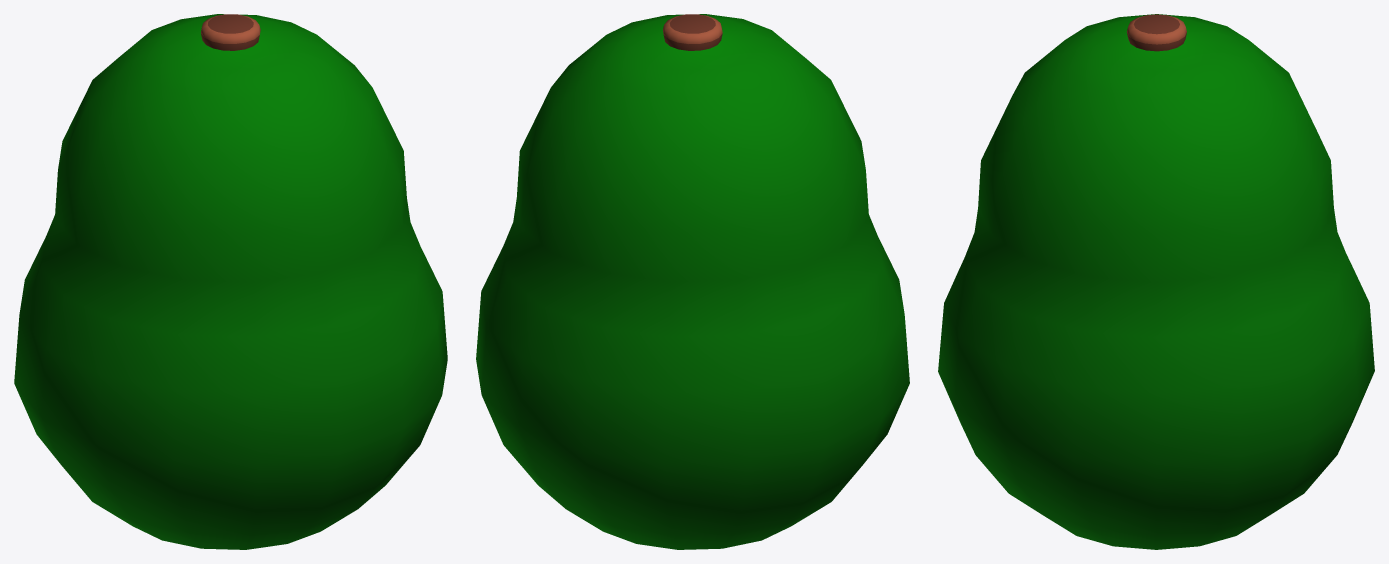
File: Avocado_V1_00.fbx
The picture shows the model from 3 angles, left to right: view 1: azimuth 30°, elevation 25°; view 2: azimuth 150°, elevation 25°; view 3: azimuth 270°, elevation 25°; orthographic projection.
Visible parts, largest first — view 1: Avocado_V1_00; view 2: Avocado_V1_00; view 3: Avocado_V1_00.
Boxes of the visible parts, bbox=[...] form: Avocado_V1_00: bbox=[14, 14, 447, 549]; Avocado_V1_00: bbox=[476, 14, 909, 549]; Avocado_V1_00: bbox=[938, 14, 1374, 549].
Size of the model in its own units: 30.97 by 39.67 by 30.97.
